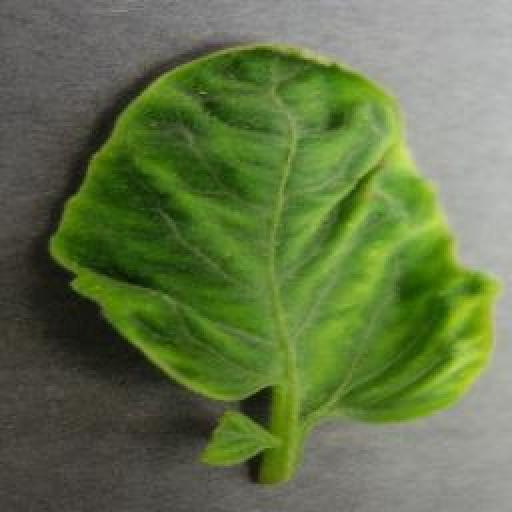disease_tomato: (50, 40, 498, 427)
